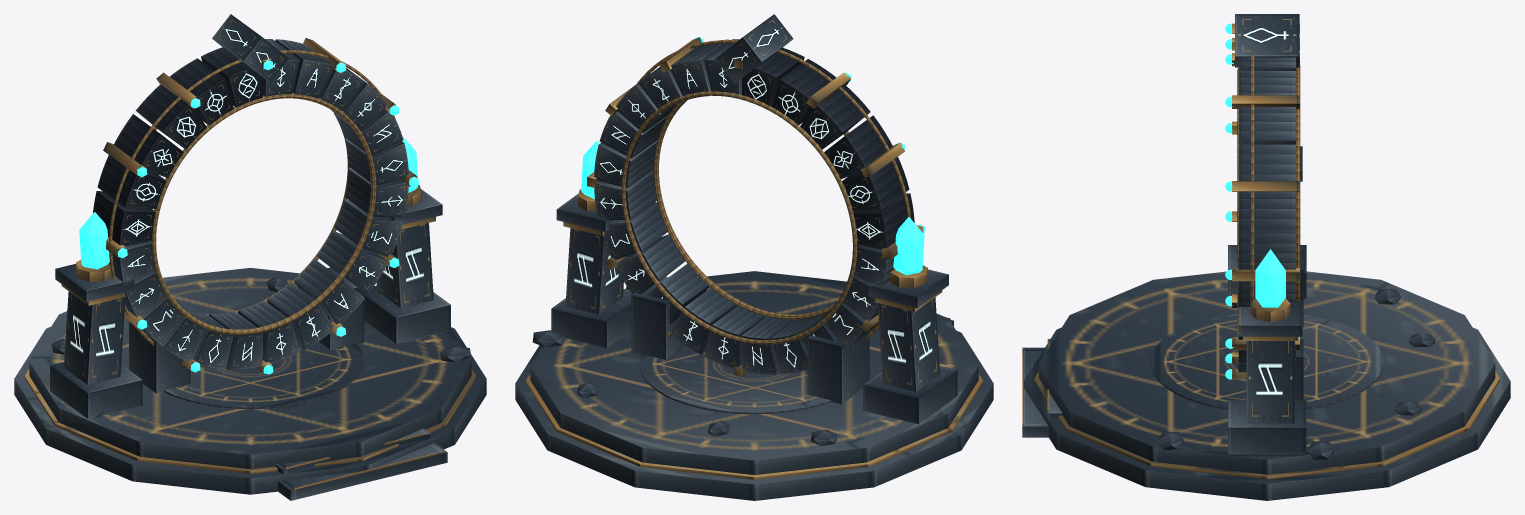
File: teleporter.glb
3 renders of one model, left to right at view 1: azimuth 30°, elevation 25°; view 2: azimuth 150°, elevation 25°; view 3: azimuth 270°, elevation 25°, orthographic. The views are drawn at different scales.
Visible parts, largest first — view 1: Raised ritual platform, Lower twelve-sided basalt dais, Central engraved seal, Tapered guardian obelisk, Inner brass channel, Tapered guardian obelisk.001, Buttress foot, Buttress foot.001, Processional step 1, Dais brass seam, Ring support, Runestone_21 (+31 smaller); view 2: Raised ritual platform, Lower twelve-sided basalt dais, Central engraved seal, Tapered guardian obelisk, Rear brass channel, Tapered guardian obelisk.001, Ring support, Buttress foot, Dais brass seam, Buttress foot.001, Ring support.001, Crown keystone (+32 smaller); view 3: Raised ritual platform, Lower twelve-sided basalt dais, Central engraved seal, Tapered guardian obelisk.001, Buttress foot.001, Dais brass seam, Crown keystone, Runestone_04, Runestone_02, Runestone_03, Runestone_05, Obelisk capital.001 (+11 smaller).
Boxes of the visible parts, box(x1,y1,x2,y2) form: Raised ritual platform: box(29, 268, 471, 469); Lower twelve-sided basalt dais: box(14, 326, 486, 494); Central engraved seal: box(164, 341, 363, 408); Tapered guardian obelisk: box(64, 291, 125, 384); Inner brass channel: box(150, 93, 376, 334); Tapered guardian obelisk.001: box(376, 223, 433, 308); Buttress foot: box(50, 362, 142, 418); Buttress foot.001: box(364, 286, 450, 343); Processional step 1: box(278, 443, 447, 500); Dais brass seam: box(24, 369, 476, 473); Ring support: box(129, 322, 190, 393); Runestone_21: box(135, 84, 206, 149); Raised ritual platform: box(530, 271, 978, 474); Lower twelve-sided basalt dais: box(515, 330, 993, 500); Central engraved seal: box(640, 346, 830, 414); Tapered guardian obelisk: box(878, 297, 940, 391); Rear brass channel: box(621, 91, 857, 344); Tapered guardian obelisk.001: box(565, 228, 623, 314); Ring support: box(807, 332, 869, 404); Buttress foot: box(863, 366, 957, 424); Dais brass seam: box(526, 374, 982, 479); Buttress foot.001: box(551, 288, 632, 348); Ring support.001: box(631, 276, 684, 359); Crown keystone: box(715, 14, 793, 83); Raised ritual platform: box(1039, 271, 1495, 474); Lower twelve-sided basalt dais: box(1023, 327, 1510, 500); Central engraved seal: box(1150, 314, 1383, 409); Tapered guardian obelisk.001: box(1246, 341, 1294, 423); Buttress foot.001: box(1228, 400, 1306, 454); Dais brass seam: box(1034, 371, 1499, 479); Crown keystone: box(1235, 14, 1299, 67); Runestone_04: box(1238, 191, 1295, 229); Runestone_02: box(1238, 107, 1295, 144); Runestone_03: box(1238, 144, 1295, 180); Runestone_05: box(1238, 229, 1295, 269); Obelisk capital.001: box(1238, 301, 1302, 336).
Bounding box in the file's own units: 7.3 × 6.32 × 7.32.
3 materials, 2 textured.
